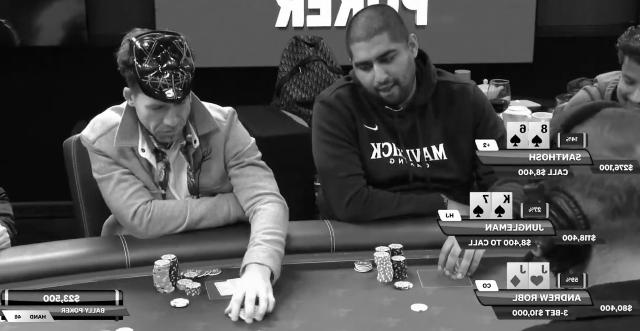6S: (509, 123, 526, 147)
7S: (472, 194, 490, 218)
8S: (530, 124, 548, 148)
JD: (508, 264, 526, 288)
JH: (530, 264, 548, 288)
KS: (493, 194, 511, 218)
